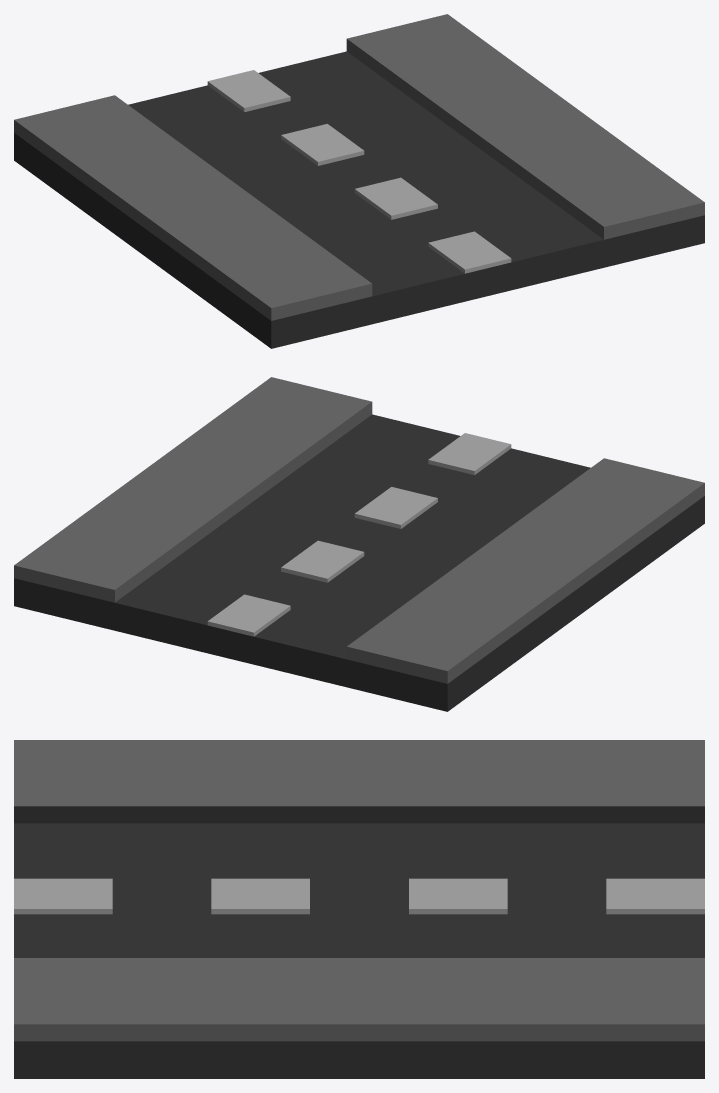
The model's file is road.glb.
3 views of the same model, one above another, from view 1: azimuth 30°, elevation 25°; view 2: azimuth 150°, elevation 25°; view 3: azimuth 270°, elevation 25° (orthographic). The views are drawn at different scales.
Parts seen in each view (by area): view 1: Object_2; view 2: Object_2; view 3: Object_2.
Part boxes in pixels (x1,y1,x2,y2): Object_2: (14, 14, 704, 348); Object_2: (14, 377, 704, 711); Object_2: (14, 740, 704, 1078).
Bounding box in the file's own units: 10.64 × 0.9552 × 10.94.
Materials: 1 (1 with a texture image).
